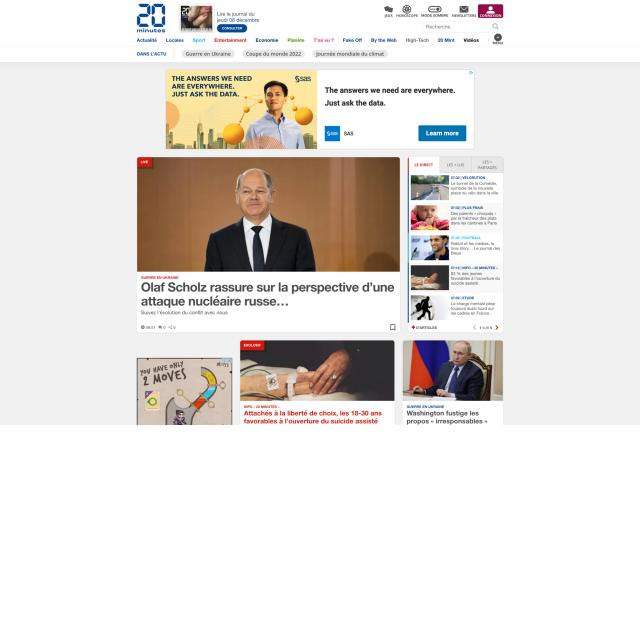content: (407, 157, 503, 332)
input: (422, 21, 504, 33)
logo: (133, 1, 169, 36)
navigation: (134, 37, 483, 44)
